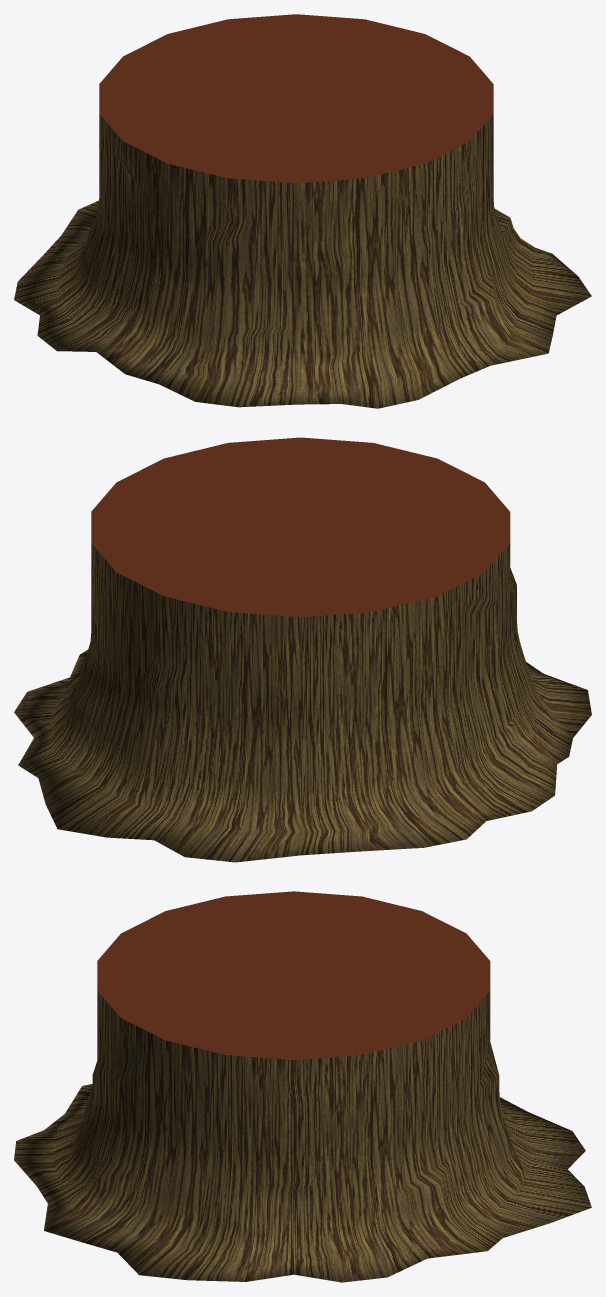
Rendered from 切り株.fbx.
3 renders of one model, top to bottom at view 1: azimuth 30°, elevation 25°; view 2: azimuth 150°, elevation 25°; view 3: azimuth 270°, elevation 25°, orthographic. The views are drawn at different scales.
Visible parts, largest first — view 1: Cylinder001, オブジェクト001; view 2: Cylinder001, オブジェクト001; view 3: Cylinder001, オブジェクト001.
Boxes of the visible parts, left/top/right/bottom form: Cylinder001: left=14, top=114, right=591, bottom=408; オブジェクト001: left=99, top=14, right=493, bottom=183; Cylinder001: left=14, top=543, right=591, bottom=862; オブジェクト001: left=91, top=437, right=510, bottom=617; Cylinder001: left=14, top=991, right=591, bottom=1282; オブジェクト001: left=97, top=891, right=490, bottom=1059.
Bounding box in the file's own units: 92.89 × 36.93 × 98.66.
